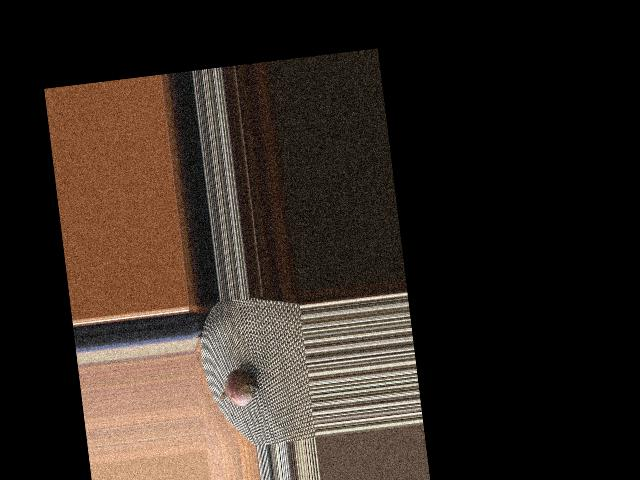beet: (211, 361, 262, 415)
